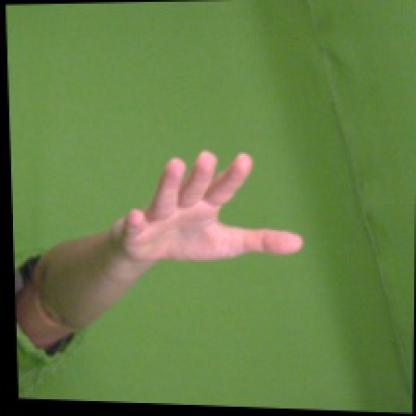Hand: (110, 150, 304, 263)
